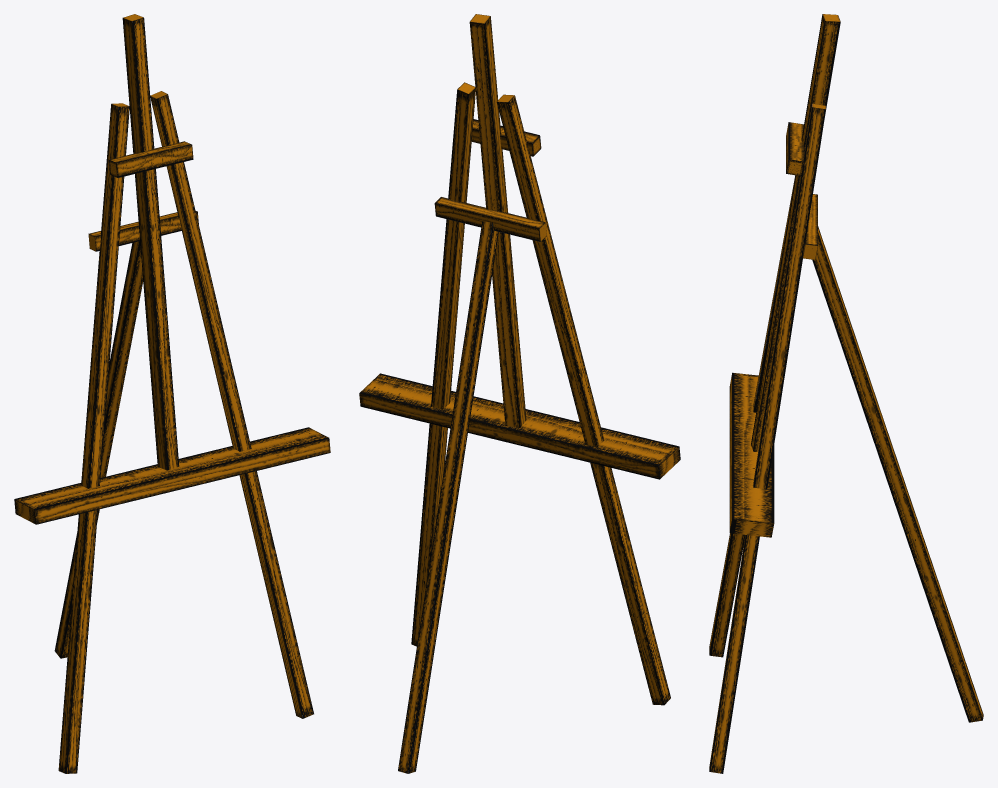
File: atril.obj
3 views of the same model, side by side, from view 1: azimuth 30°, elevation 25°; view 2: azimuth 150°, elevation 25°; view 3: azimuth 270°, elevation 25° (orthographic).
Parts seen in each view (by area): view 1: atril.001; view 2: atril.001; view 3: atril.001.
Boxes of the visible parts, x1=… form: atril.001: x1=14, y1=14, x2=330, y2=773; atril.001: x1=359, y1=14, x2=680, y2=773; atril.001: x1=709, y1=14, x2=983, y2=773.
Size of the model in its own units: 2.13 by 4.77 by 1.69.
